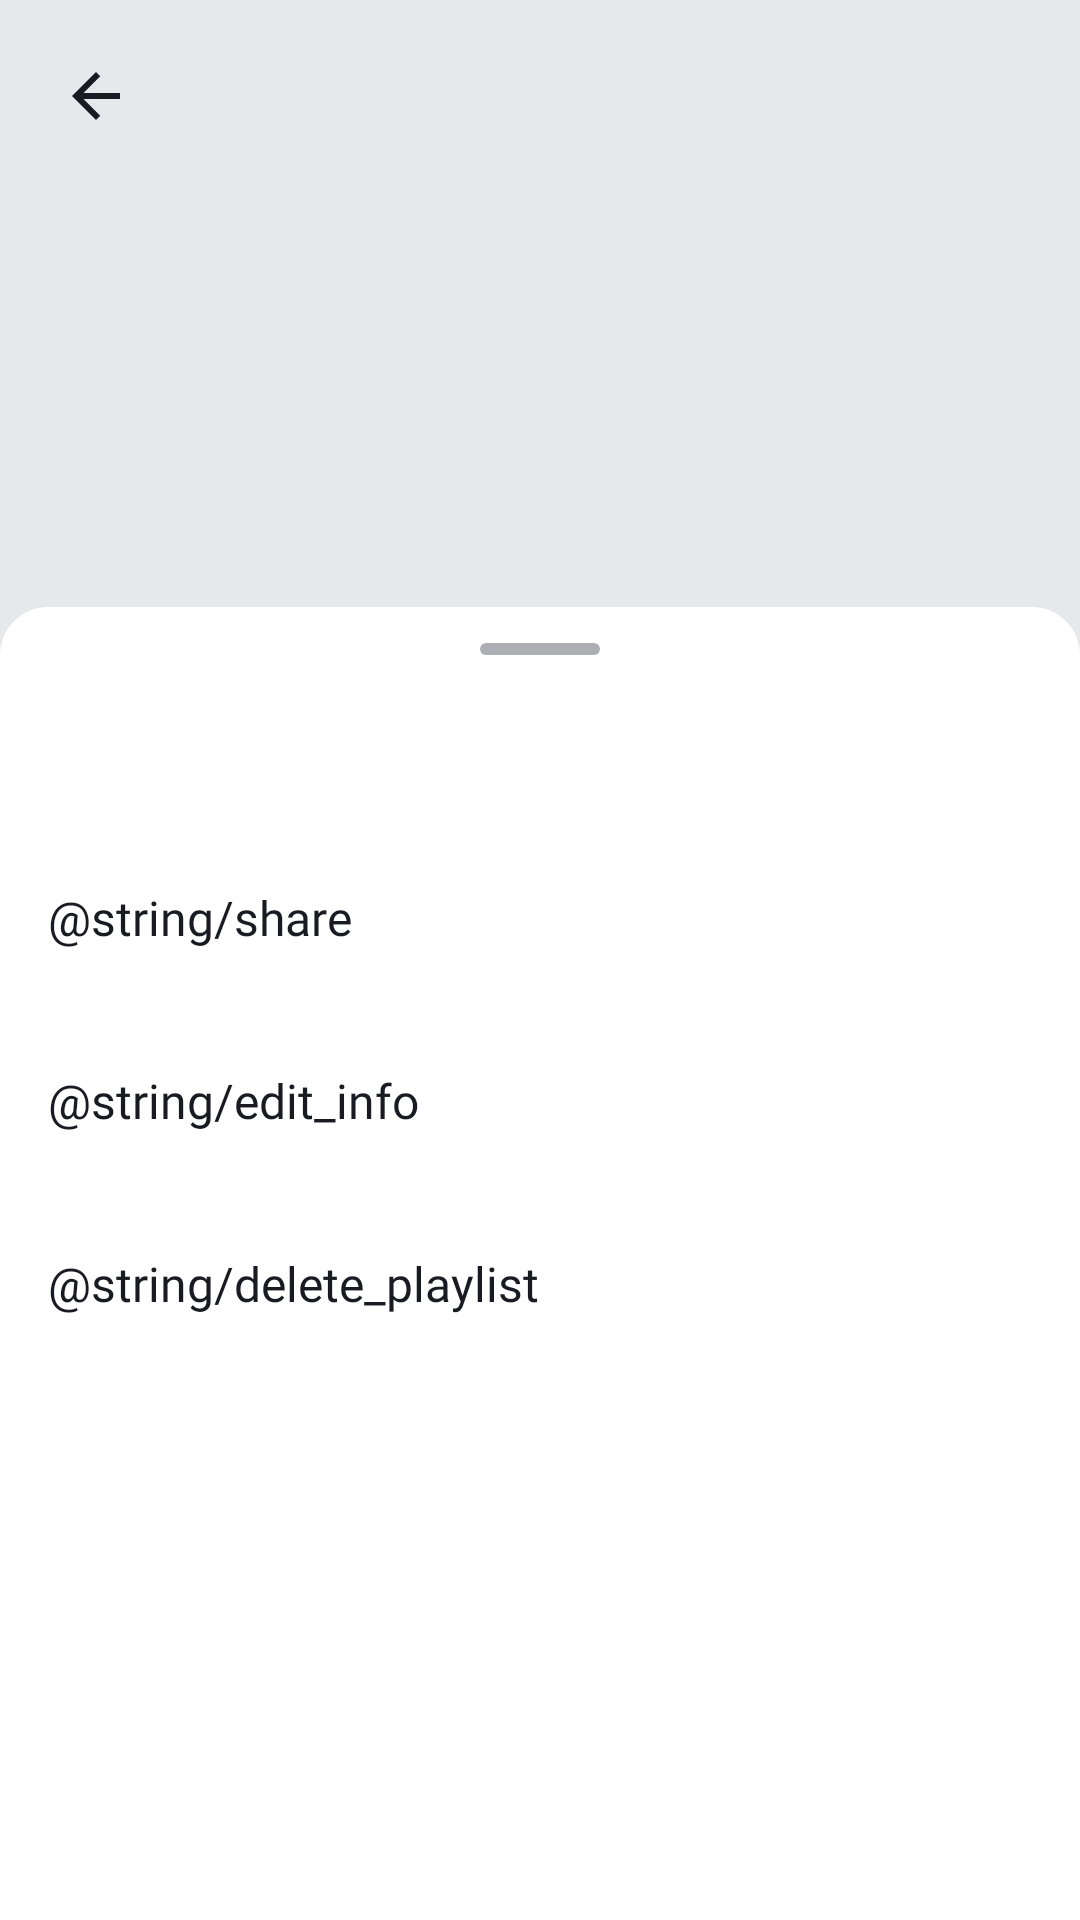

Screen size 1080*1920. Icon name, then its center in pixels as (x=x, y=y):
arrow back: (x=96, y=96)
